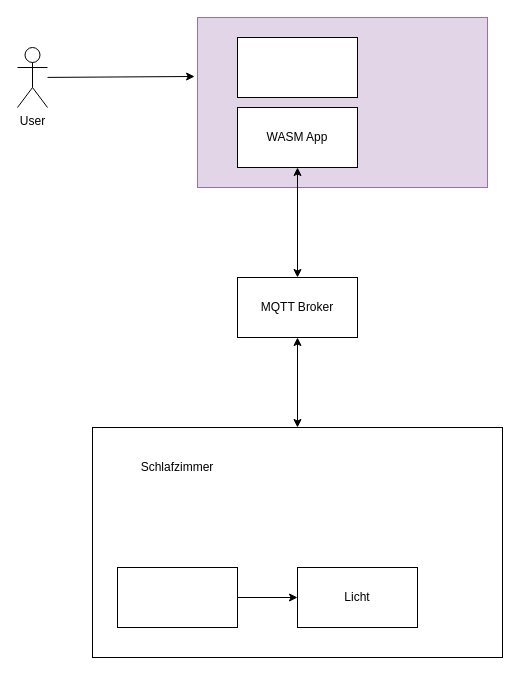
Some shapes in this 520 by 675 pixel diagram are drawn without their labels. The centre of each missing label's shape, as x and y in pixels:
"Microcontroller" goes at point 177,597.
"Server (Raspi 4)" goes at point 297,67.
